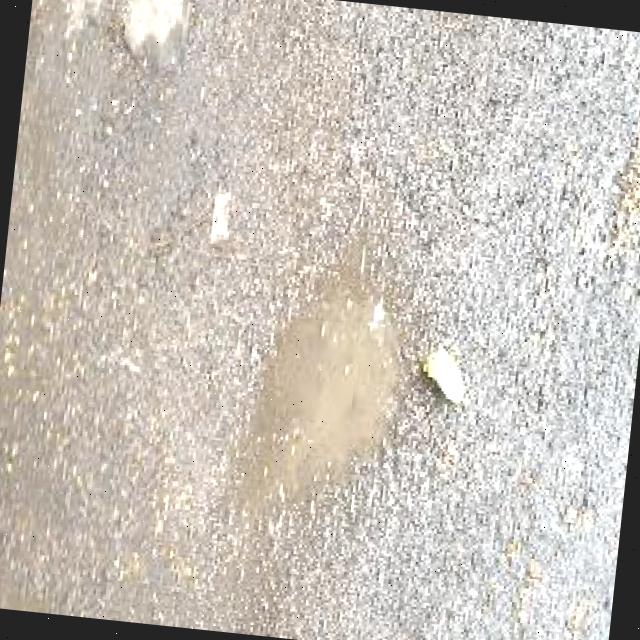waterlogging: (222, 202, 448, 538)
